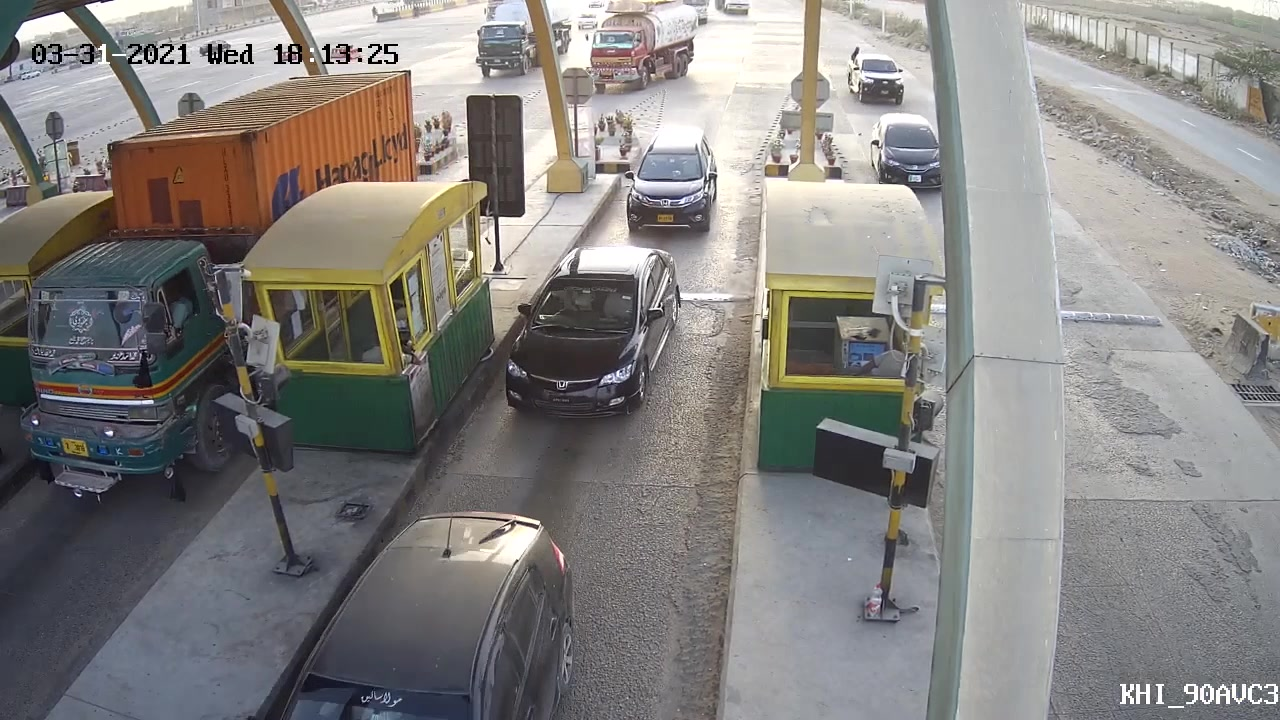F1: (502, 241, 693, 425)
